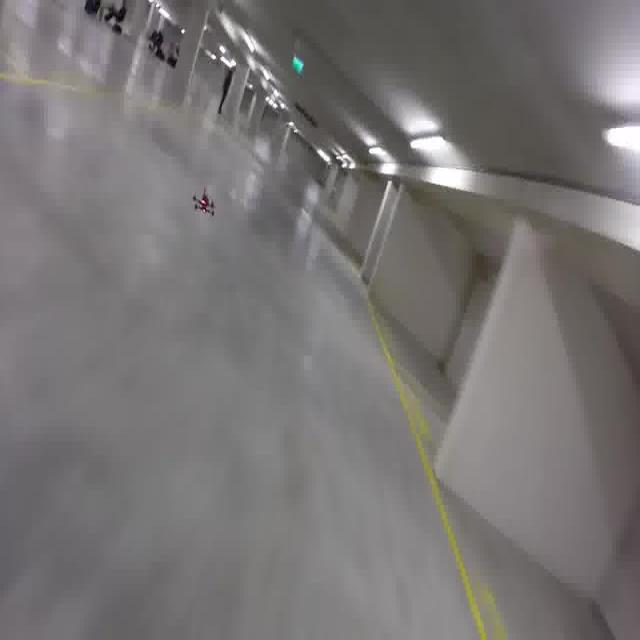drone: (192, 183, 218, 227)
